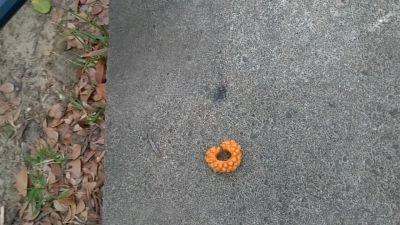eggs: (204, 138, 244, 174)
